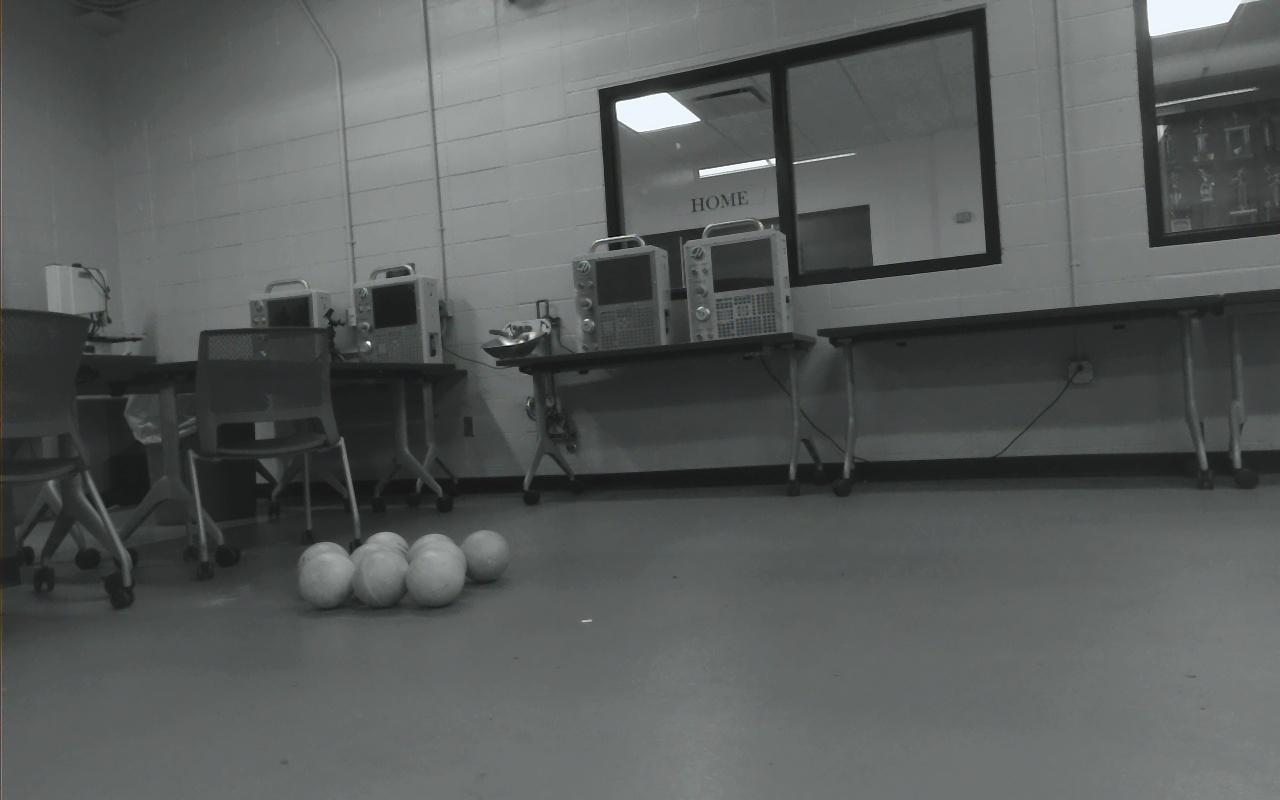Fuel: (406, 549, 463, 607), (297, 552, 355, 609), (353, 550, 408, 607), (408, 539, 466, 588), (458, 529, 509, 582), (351, 541, 406, 590), (297, 541, 352, 589), (407, 533, 460, 579), (360, 531, 410, 579)
